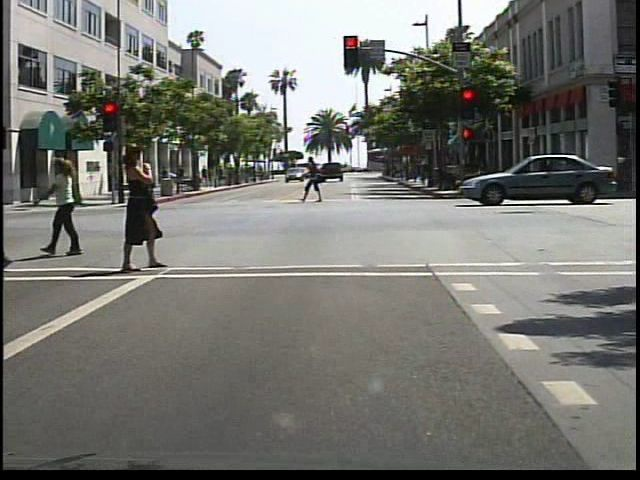person: (114, 137, 172, 275), (45, 157, 97, 261), (301, 156, 329, 205), (1, 146, 6, 280), (171, 163, 187, 192)
